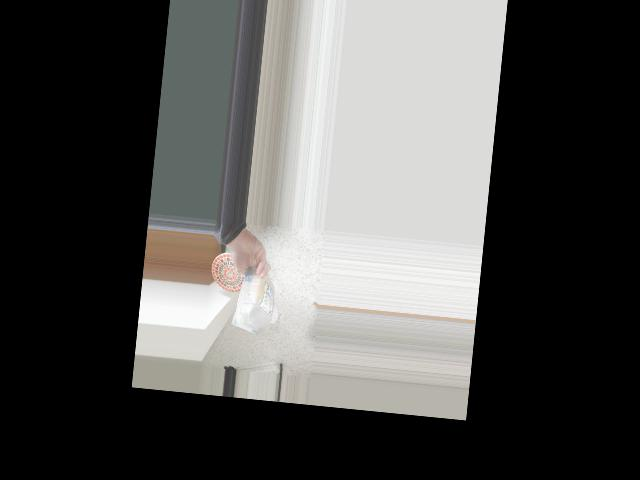cheese: (234, 267, 277, 336)
